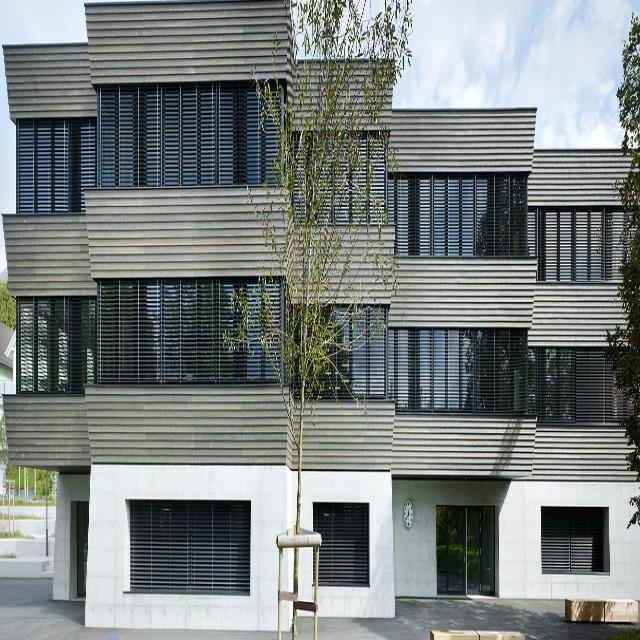door: (466, 507, 498, 595), (436, 506, 467, 594)
window: (14, 85, 624, 285), (14, 276, 636, 428)
